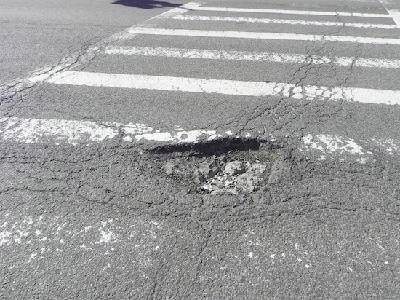pothole: (133, 133, 310, 198)
